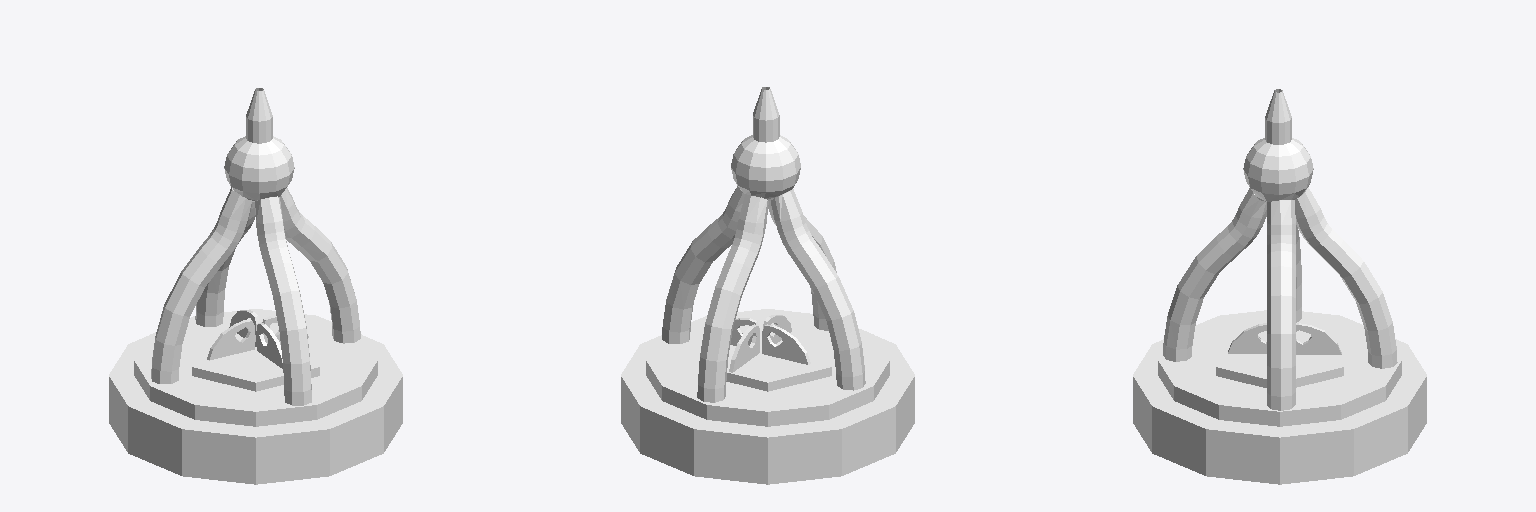
File: _Ceain_magnetField.obj
3 views of the same model, side by side, from view 1: azimuth 30°, elevation 25°; view 2: azimuth 150°, elevation 25°; view 3: azimuth 270°, elevation 25° (orthographic).
Visible parts, largest first — view 1: Plane; view 2: Plane; view 3: Plane.
Part boxes in pixels (bbox=[...]): Plane: bbox=[109, 88, 402, 484]; Plane: bbox=[621, 87, 914, 484]; Plane: bbox=[1133, 89, 1426, 484].
Size of the model in its own units: 2 by 2.49 by 2.